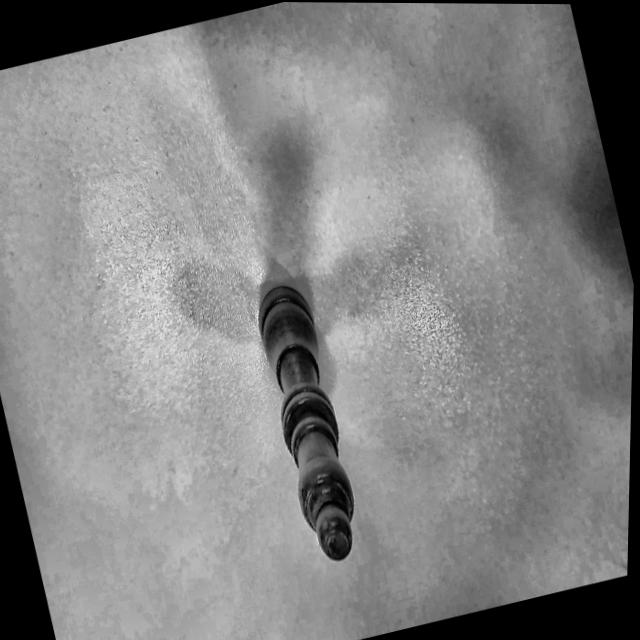black-queen: (231, 268, 383, 577)
